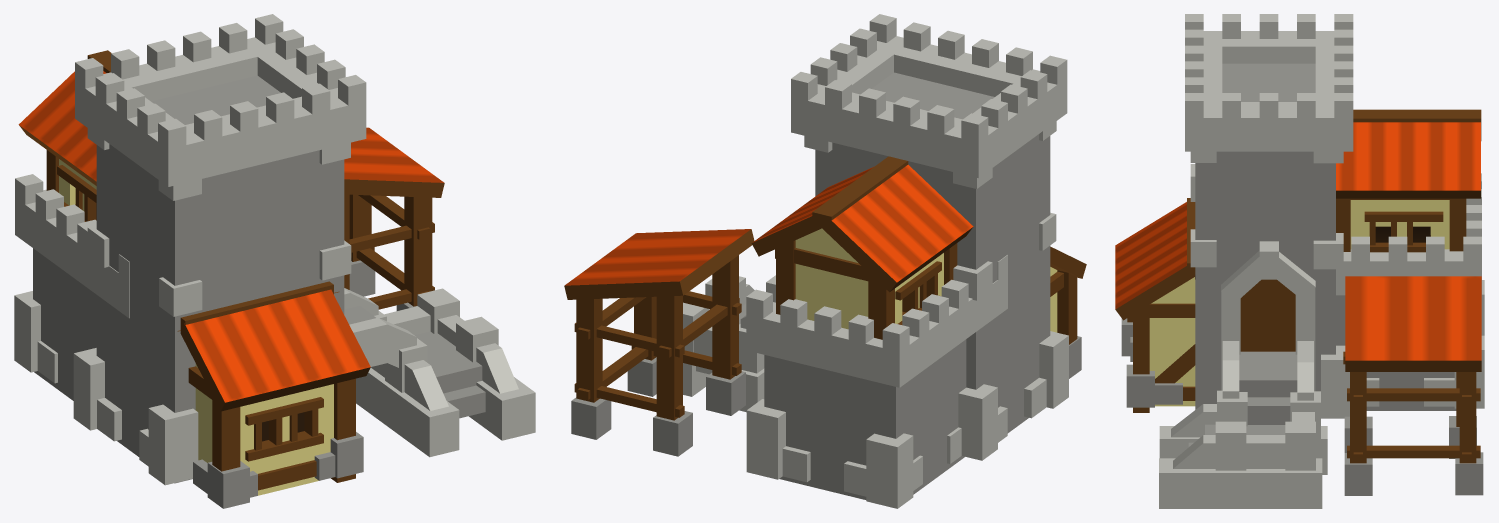
Rendered from outpost.fbx.
The picture shows the model from 3 angles, left to right: view 1: azimuth 30°, elevation 25°; view 2: azimuth 150°, elevation 25°; view 3: azimuth 270°, elevation 25°; orthographic projection. The views are drawn at different scales.
Visible parts, largest first — view 1: outpost:polySurface342; view 2: outpost:polySurface342; view 3: outpost:polySurface342.
Part boxes in pixels (<box>): outpost:polySurface342: <box>14,14,535,508</box>; outpost:polySurface342: <box>564,14,1086,508</box>; outpost:polySurface342: <box>1115,14,1484,508</box>.
Size of the model in its own units: 205 by 201 by 198.
1 material, 1 textured.
